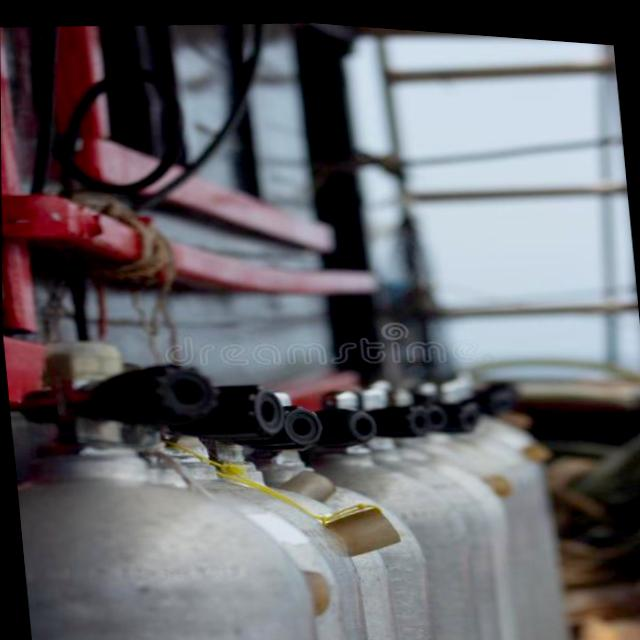FireExtinguisher: (3, 321, 338, 640)
